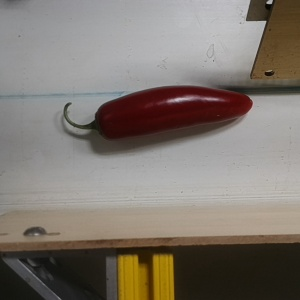Cut Point: (86, 101, 117, 141)
